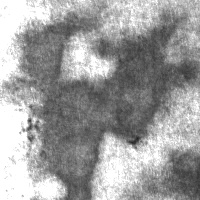patches: (97, 16, 197, 145), (30, 77, 109, 198), (3, 9, 108, 82), (161, 151, 199, 200)
